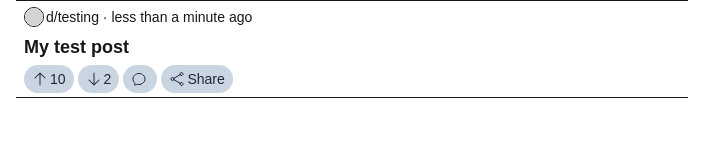
Test case: Post Component — Upvote/Downvote › upvote increases count optimistically
Click the button "10". click: (49, 79)
box: x1=24 y1=65 x2=74 y2=93
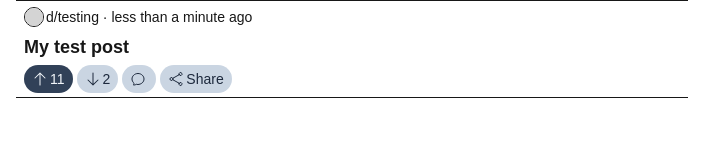
Expected: the text "11" is shown, x1=50 y1=69 x2=64 y2=89
